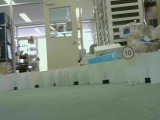speed_10: (121, 45, 135, 60)
